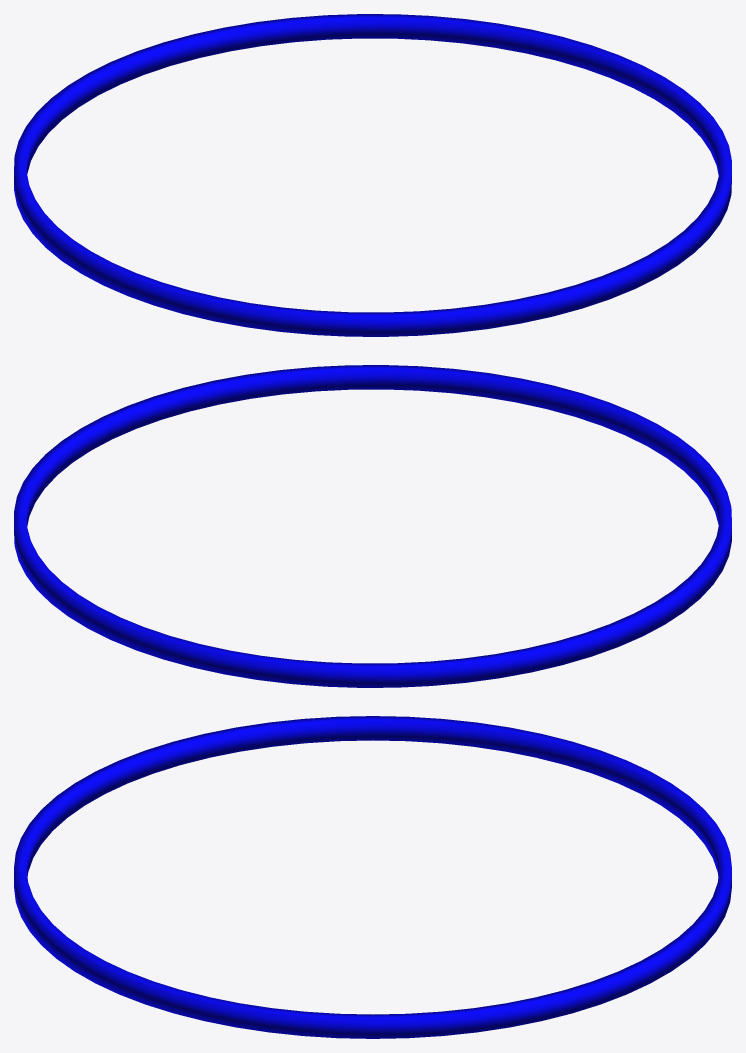
The model's file is rotz.obj.
3 renders of one model, top to bottom at view 1: azimuth 30°, elevation 25°; view 2: azimuth 150°, elevation 25°; view 3: azimuth 270°, elevation 25°, orthographic.
Visible parts, largest first — view 1: Circle; view 2: Circle; view 3: Circle.
Boxes of the visible parts, <box> form: Circle: <box>14,14,731,336</box>; Circle: <box>14,365,731,687</box>; Circle: <box>14,716,731,1038</box>.
Size of the model in its own units: 1 by 0.03 by 1.
